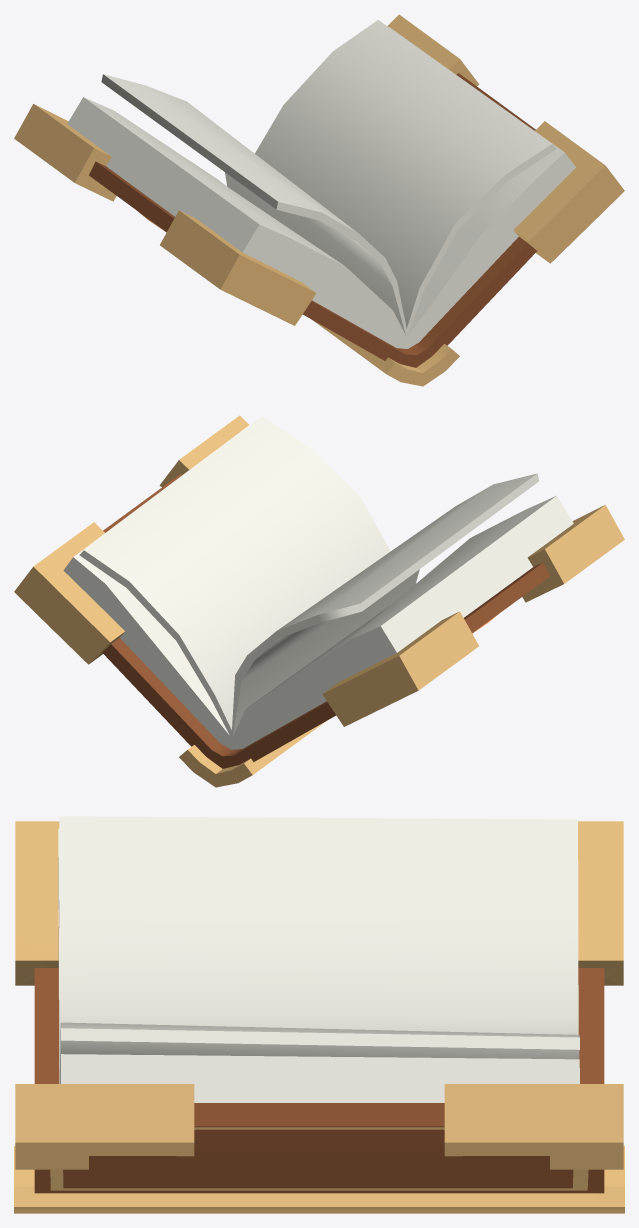
Rendered from Wield_Gear_Left_18.fbx.
The picture shows the model from 3 angles, top to bottom: view 1: azimuth 30°, elevation 25°; view 2: azimuth 150°, elevation 25°; view 3: azimuth 270°, elevation 25°; orthographic projection. The views are drawn at different scales.
Parts seen in each view (by area): view 1: Wield_Gear_Left_18; view 2: Wield_Gear_Left_18; view 3: Wield_Gear_Left_18.
Part boxes in pixels (<box>): Wield_Gear_Left_18: <box>14,14,624,386</box>; Wield_Gear_Left_18: <box>14,415,624,787</box>; Wield_Gear_Left_18: <box>14,816,624,1213</box>.
Bounding box in the file's own units: 28.7 × 13.92 × 25.48.
